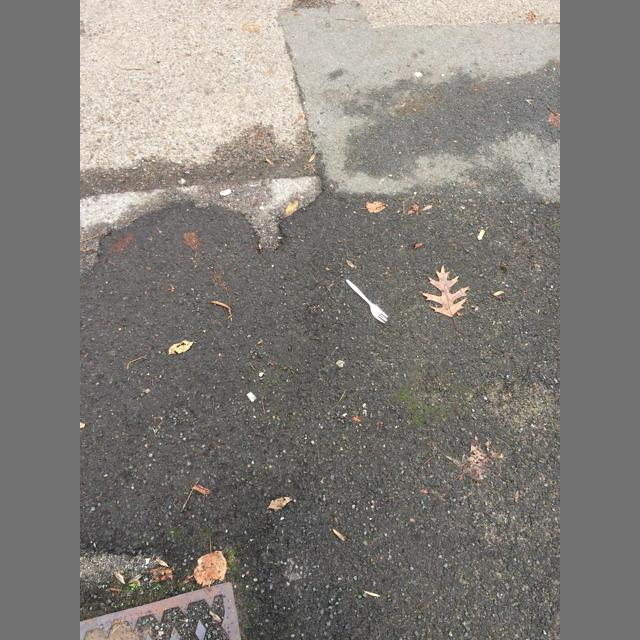litter: (346, 279, 388, 323), (476, 230, 485, 240)
